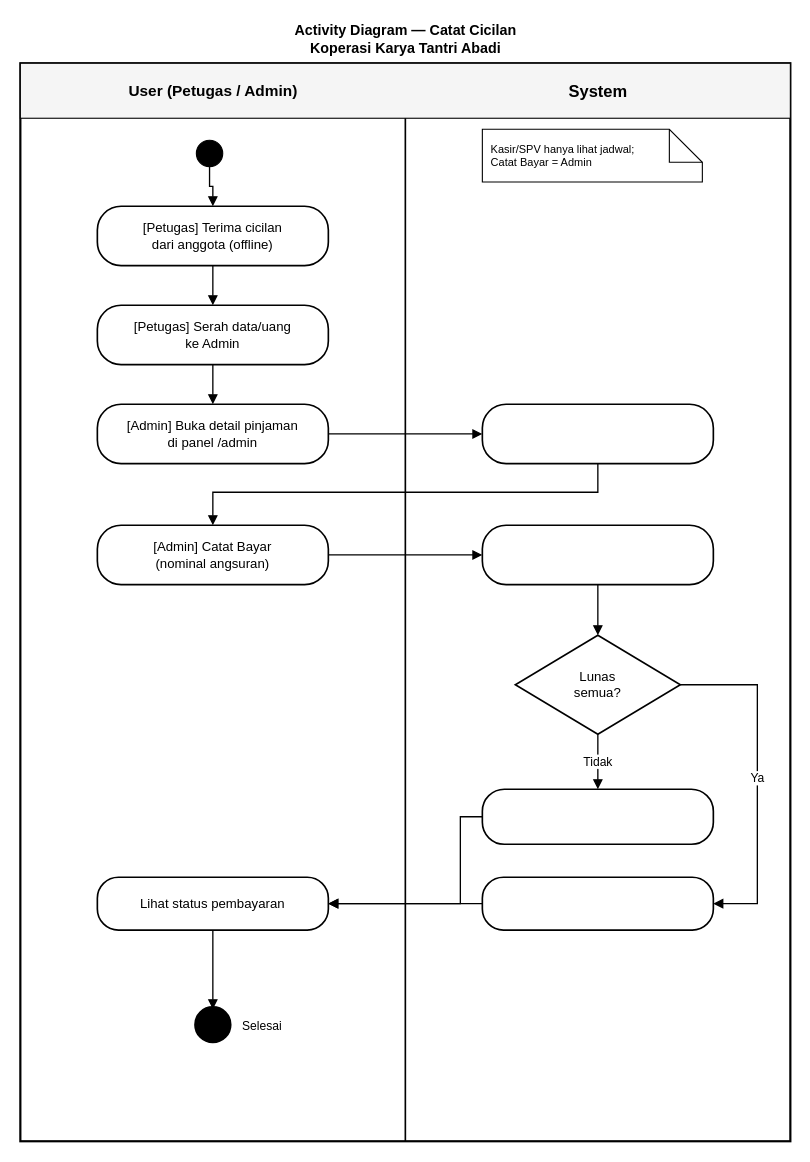
Some shapes in this 810 by 1162 pixel diagram are drawn without their labels. Each missing label, with the centre of its shape:
Status: lunas / completed: [597,903]
Status: masih berjalan (partial paid): [597,816]
Tampilkan detail pinjaman + jadwal cicilan: [597,433]
Update loan_payments + hitung sisa hutang: [597,554]
